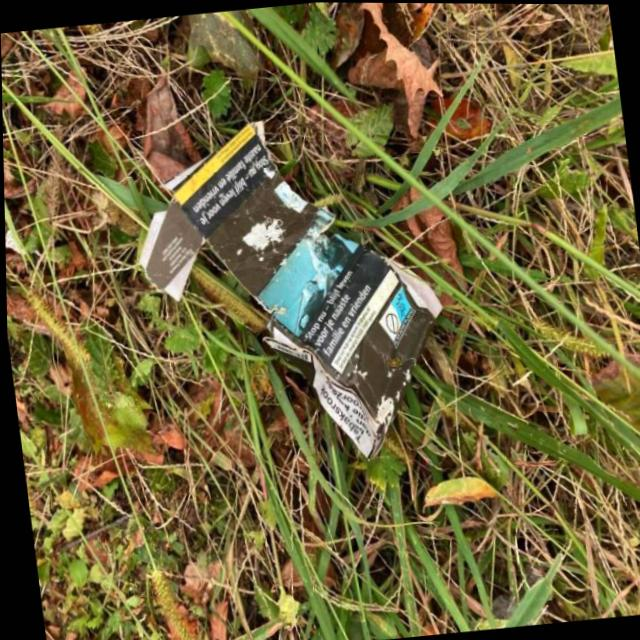Paper: (116, 103, 463, 489)
